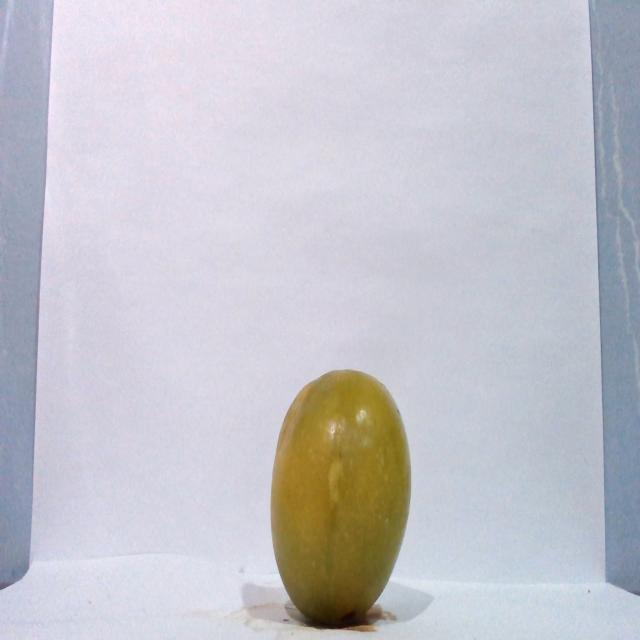Red: (268, 367, 412, 626)
